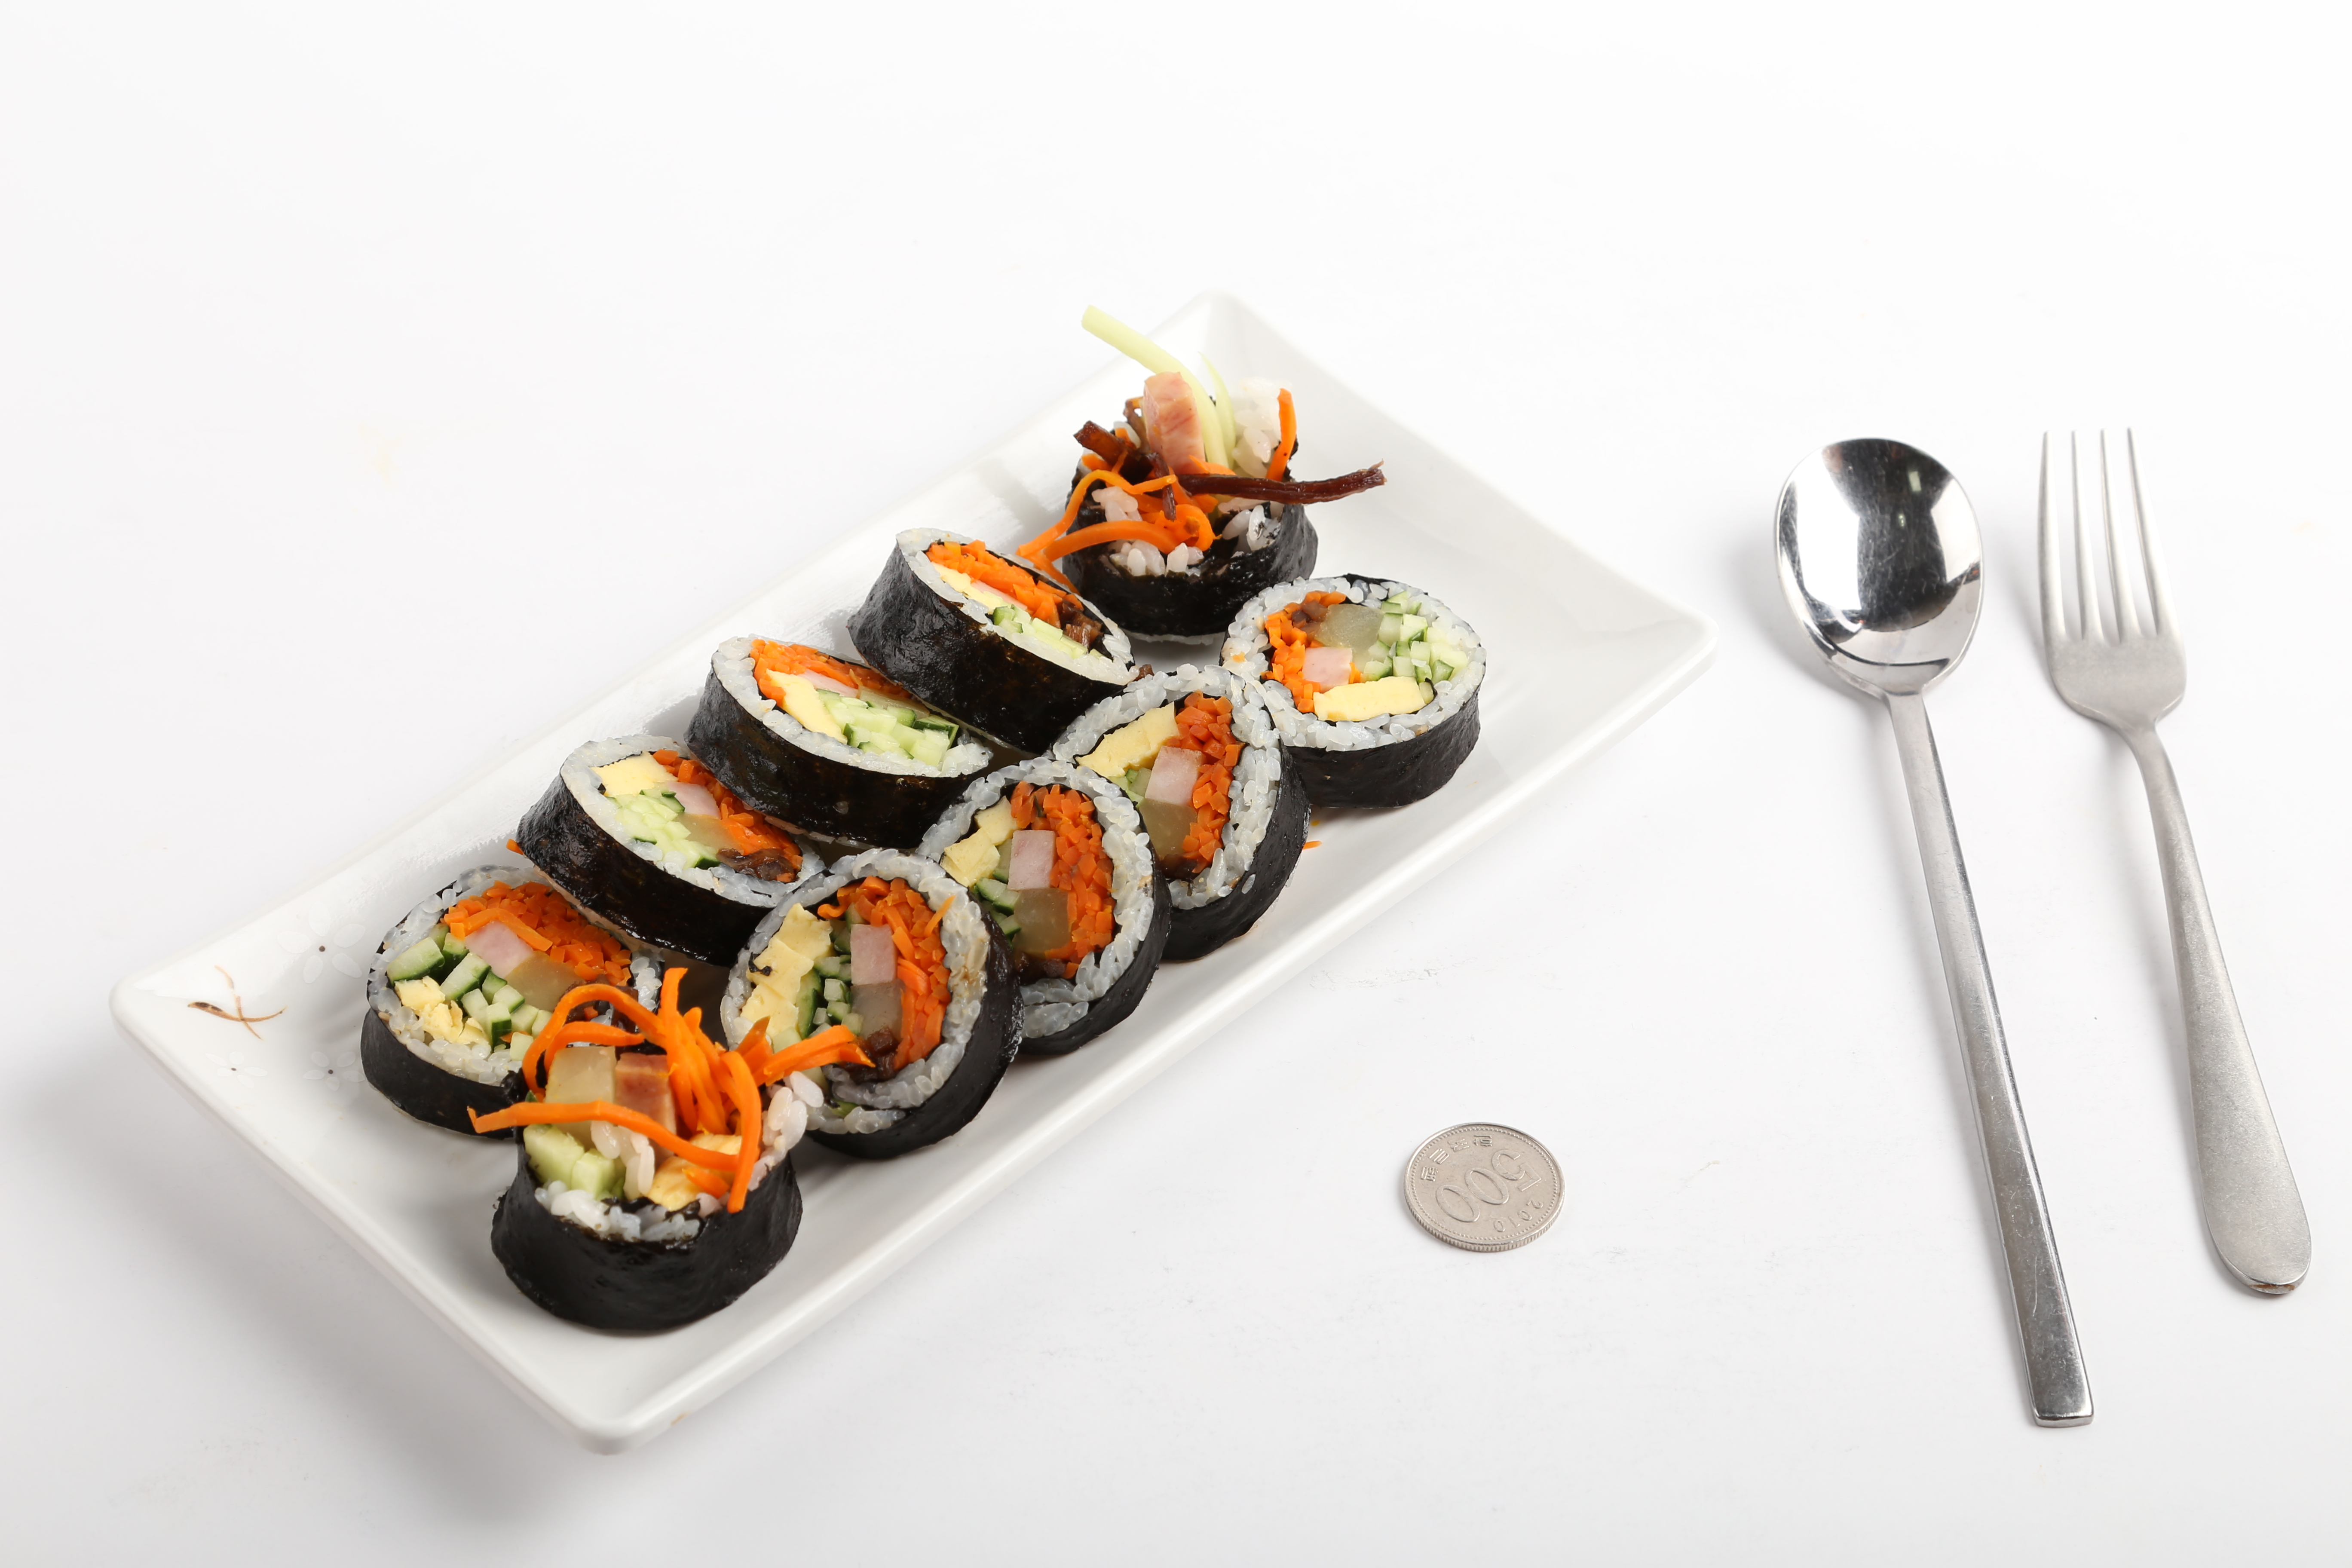dish: (115, 276, 1722, 1449)
ref_coin: (1398, 1115, 1564, 1260)
ref_fork: (2032, 427, 2191, 772)
ref_spoon: (1773, 434, 1984, 744)
김밥: (360, 366, 1486, 1335)
